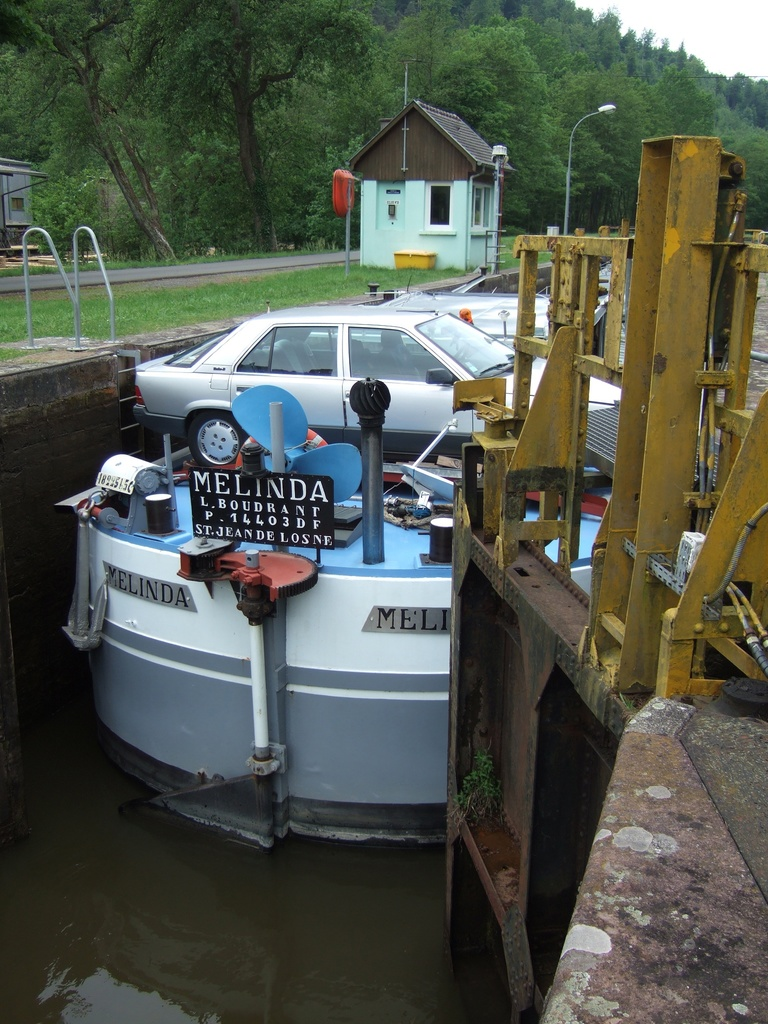Car: (128, 301, 622, 472)
